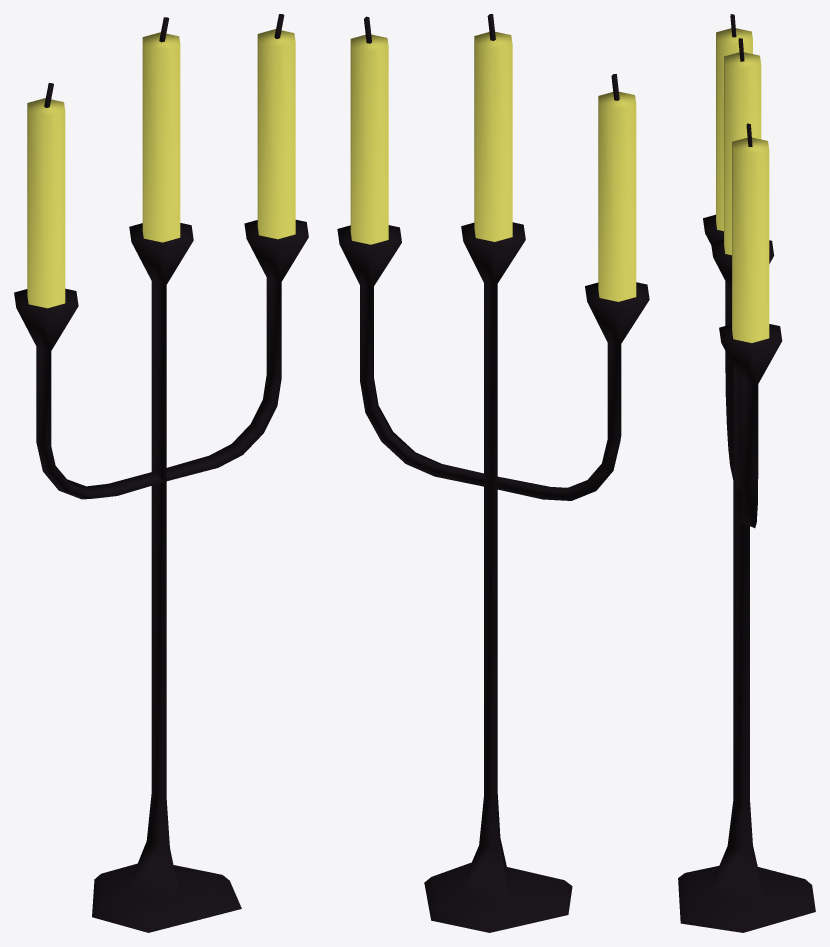
File: candles.obj
3 renders of one model, left to right at view 1: azimuth 30°, elevation 25°; view 2: azimuth 150°, elevation 25°; view 3: azimuth 270°, elevation 25°, orthographic. The views are drawn at different scales.
Parts seen in each view (by area): view 1: Candles_Cylinder; view 2: Candles_Cylinder; view 3: Candles_Cylinder.
Boxes of the visible parts, box(x1,y1,x2,y2) form: Candles_Cylinder: box(14, 14, 308, 932); Candles_Cylinder: box(337, 14, 649, 932); Candles_Cylinder: box(678, 14, 815, 932).
Bounding box in the file's own units: 0.6548 × 1.83 × 0.265.
